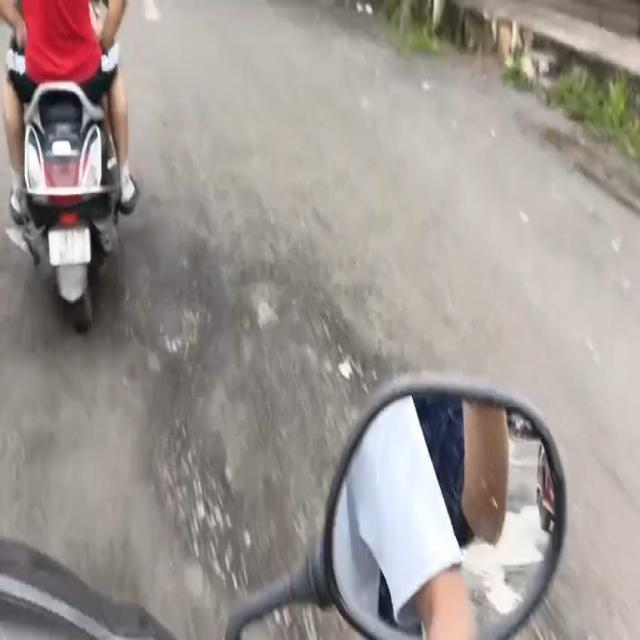road-pothole: (151, 277, 397, 591)
